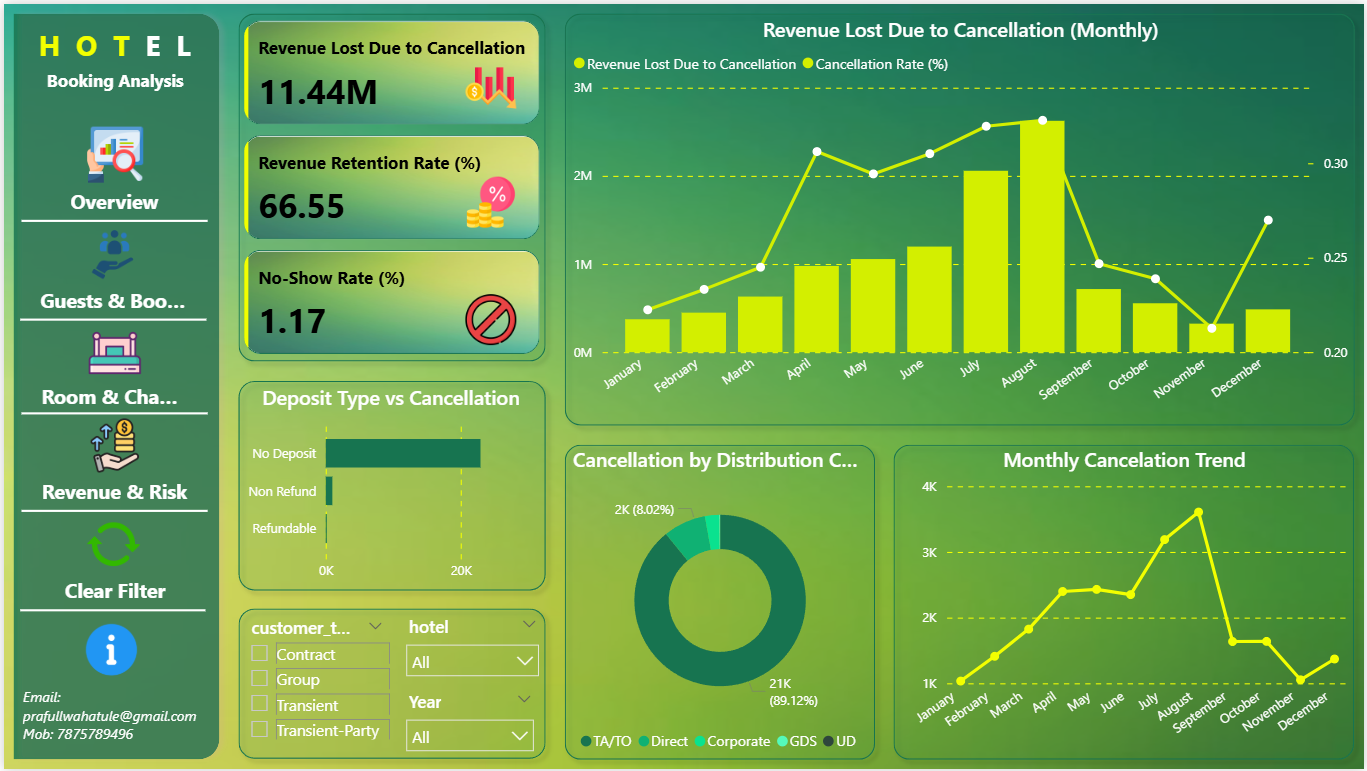

The dashboard page shown, as its layout file describes it:
{"tool":"powerbi","page":{"name":"Cancellation & Revenue Dashboard","canvas":[1280,720],"ordinal":3},"visuals":[{"type":"group","id":"g1","title":"Group 9","box":[0,0,211.8,720],"z":0,"group":"g11"},{"type":"shape","box":[0,0,211.8,720],"z":0,"group":"g4"},{"type":"group","id":"g2","title":"Group 6","box":[211.6,0,307,345.3],"z":0,"group":"g6"},{"type":"group","id":"g3","title":"Group 3","box":[34.4,266.1,137.3,30.1],"z":0,"group":"g13"},{"type":"image","box":[62.9,573.9,75.7,67.1],"z":0,"group":"g8"},{"type":"group","id":"g4","title":"Group 1","box":[0,0,211.8,720],"z":500,"group":"g1"},{"type":"shape","box":[211.6,0,307,345.3],"z":1000,"group":"g2"},{"type":"shape","box":[518.6,0,761.4,405.7],"z":1000,"group":"g11"},{"type":"image","box":[429,46.5,58.1,64],"z":1000,"group":"g6"},{"type":"textbox","box":[15.4,55.3,178.8,35],"z":1000,"group":"g8"},{"type":"group","id":"g5","title":"Group 4","box":[35.6,356.7,137.3,27.7],"z":1000,"group":"g13"},{"type":"cardVisual","fields":{"Data":["Hotel Bookings.Revenue Lost Due to Cancellation","Hotel Bookings.Revenue Retention Rate (%)","Hotel Bookings.No-Show Rate (%)"]},"box":[220.9,10.5,288.4,325.6],"z":1505,"group":"g2"},{"type":"group","id":"g6","title":"Group 7","box":[211.6,0,307,345.3],"z":2000,"group":"g11"},{"type":"image","box":[429,155.8,58.1,62.8],"z":2000,"group":"g6"},{"type":"image","box":[66.9,385,74.7,61.4],"z":2000,"group":"g8"},{"type":"group","id":"g7","title":"Group 5","box":[35.6,446.5,137.3,27.7],"z":2000,"group":"g13"},{"type":"group","id":"g8","title":"Group 2","box":[12.9,15.3,182.5,625.7],"z":3000,"group":"g13"},{"type":"image","box":[66.9,110.7,75.2,62.7],"z":3000,"group":"g8"},{"type":"image","box":[429,266.3,58.1,61.6],"z":3000,"group":"g6"},{"type":"shape","box":[828.6,405.7,451.4,314.3],"z":3000,"group":"g11"},{"type":"image","box":[65,204.8,75.3,61.2],"z":4000,"group":"g8"},{"type":"shape","box":[518.6,405.7,310,314.3],"z":4000,"group":"g11"},{"type":"actionButton","title":"Guests & Booking","box":[34.4,266.1,137.3,30.1],"z":5000,"group":"g3"},{"type":"image","box":[66.6,297.9,74.7,61.4],"z":5000,"group":"g8"},{"type":"shape","box":[211.6,345.3,307,215.1],"z":5000,"group":"g11"},{"type":"actionButton","title":"Room & Channel","box":[35.6,356.7,137.3,27.7],"z":5000,"group":"g5"},{"type":"actionButton","title":"Revenue & Risk","box":[35.6,446.5,137.3,27.7],"z":5000,"group":"g7"},{"type":"actionButton","title":"Overview","box":[35.6,172.9,137.3,28.9],"z":6000,"group":"g8"},{"type":"shape","box":[211.6,560.5,307,159.3],"z":6000,"group":"g11"},{"type":"shape","box":[16.8,201.3,175.3,5.9],"z":7000,"group":"g8"},{"type":"lineChart","title":"Monthly Cancelation Trend","fields":{"Category":["Hotel Bookings.arrival_date.Variation.Date Hierarchy.Month"],"Y":["Sum(Hotel Bookings.is_canceled)"]},"box":[838.6,415.7,431.4,294.3],"z":7000,"group":"g11"},{"type":"shape","box":[15.6,294.2,175.3,5.9],"z":8000,"group":"g8"},{"type":"donutChart","title":"Cancellation by Distribution Channel","fields":{"Category":["Hotel Bookings.distribution_channel"],"Y":["Sum(Hotel Bookings.is_canceled)"]},"box":[530,415.7,287.1,297.1],"z":8000,"group":"g11"},{"type":"barChart","title":"Deposit Type vs Cancellation","fields":{"Category":["Hotel Bookings.deposit_type"],"Y":["Sum(Hotel Bookings.is_canceled)"]},"box":[220,357.1,288.6,194.3],"z":9000,"group":"g11"},{"type":"shape","box":[16.8,382.4,175.3,5.9],"z":9000,"group":"g8"},{"type":"lineStackedColumnComboChart","title":"Revenue Lost Due to Cancellation (Monthly)","fields":{"Category":["Hotel Bookings.arrival_date.Variation.Date Hierarchy.Month"],"Y":["Hotel Bookings.Revenue Lost Due to Cancellation"],"Y2":["Hotel Bookings.Cancellation Rate (%)"]},"box":[530,10,740,385],"z":10000,"group":"g11"},{"type":"shape","box":[16.8,474.2,175.3,5.9],"z":10000,"group":"g8"},{"type":"shape","box":[15.8,566.7,174.3,7.1],"z":11000,"group":"g8"},{"type":"slicer","fields":{"Values":["Hotel Bookings.hotel"]},"box":[368.3,569.5,145.1,70.7],"z":11000,"group":"g11"},{"type":"textbox","box":[12.9,15.3,182.5,52.5],"z":12000,"group":"g8"},{"type":"slicer","fields":{"Values":["Hotel Bookings.customer_type"]},"box":[220,570,148.6,140],"z":12000,"group":"g11"},{"type":"slicer","fields":{"Values":["Hotel Bookings.arrival_date.Variation.Date Hierarchy.Year"]},"box":[368.3,640.2,140.2,69.5],"z":13000,"group":"g11"},{"type":"group","id":"g9","title":"Group 7","box":[35.7,539.2,138.6,28.6],"z":14000,"group":"g10"},{"type":"image","box":[66.5,477.7,74.3,61.4],"z":14001,"group":"g10"},{"type":"group","id":"g10","title":"Group 10","box":[35.7,477.7,138.6,90.1],"z":14002,"group":"g11"},{"type":"group","id":"g11","title":"Group 11","box":[0,0,1280,720],"z":14003,"group":"g12"},{"type":"textbox","box":[12.9,637.1,184.3,68.6],"z":14004,"group":"g12"},{"type":"group","id":"g12","title":"Group 12","box":[0,0,1280,720],"z":14005},{"type":"group","id":"g13","title":"Group 8","box":[12.9,15.3,182.5,625.7],"z":16000,"group":"g1"},{"type":"actionButton","title":"Clear Filter","box":[35.7,539.2,138.6,28.6],"z":17500,"group":"g9"}]}

Visuals, with their boxes in screenshot pixels (x1, y1, x2, y2), scaled from the page's 1280x720 canvas onto the 1367x771 screenshot:
"Group 9" group: rect(0, 0, 226, 770)
shape: rect(0, 0, 226, 770)
"Group 6" group: rect(226, 0, 554, 370)
"Group 3" group: rect(37, 285, 183, 317)
image: rect(67, 615, 148, 686)
"Group 1" group: rect(0, 0, 226, 770)
shape: rect(226, 0, 554, 370)
shape: rect(554, 0, 1366, 434)
image: rect(458, 50, 520, 118)
textbox: rect(16, 59, 207, 97)
"Group 4" group: rect(38, 382, 185, 412)
cardVisual - Hotel Bookings.Revenue Lost Due to Cancellation x Hotel Bookings.Revenue Retention Rate (%): rect(236, 11, 544, 360)
"Group 7" group: rect(226, 0, 554, 370)
image: rect(458, 167, 520, 234)
image: rect(71, 412, 151, 478)
"Group 5" group: rect(38, 478, 185, 508)
"Group 2" group: rect(14, 16, 209, 686)
image: rect(71, 119, 152, 186)
image: rect(458, 285, 520, 351)
shape: rect(885, 434, 1366, 770)
image: rect(69, 219, 150, 285)
shape: rect(554, 434, 885, 770)
"Guests & Booking" actionButton: rect(37, 285, 183, 317)
image: rect(71, 319, 151, 385)
shape: rect(226, 370, 554, 600)
"Room & Channel" actionButton: rect(38, 382, 185, 412)
"Revenue & Risk" actionButton: rect(38, 478, 185, 508)
"Overview" actionButton: rect(38, 185, 185, 216)
shape: rect(226, 600, 554, 770)
shape: rect(18, 216, 205, 222)
"Monthly Cancelation Trend" lineChart: rect(896, 445, 1356, 760)
shape: rect(17, 315, 204, 321)
"Cancellation by Distribution Channel" donutChart: rect(566, 445, 873, 763)
"Deposit Type vs Cancellation" barChart: rect(235, 382, 543, 590)
shape: rect(18, 409, 205, 416)
"Revenue Lost Due to Cancellation (Monthly)" lineStackedColumnComboChart: rect(566, 11, 1356, 423)
shape: rect(18, 508, 205, 514)
shape: rect(17, 607, 203, 614)
slicer - Hotel Bookings.hotel: rect(393, 610, 548, 686)
textbox: rect(14, 16, 209, 73)
slicer - Hotel Bookings.customer_type: rect(235, 610, 394, 760)
slicer - Hotel Bookings.arrival_date.Variation.Date Hierarchy.Year: rect(393, 686, 543, 760)
"Group 7" group: rect(38, 577, 186, 608)
image: rect(71, 512, 150, 577)
"Group 10" group: rect(38, 512, 186, 608)
"Group 11" group: rect(0, 0, 1366, 770)
textbox: rect(14, 682, 211, 756)
"Group 12" group: rect(0, 0, 1366, 770)
"Group 8" group: rect(14, 16, 209, 686)
"Clear Filter" actionButton: rect(38, 577, 186, 608)
